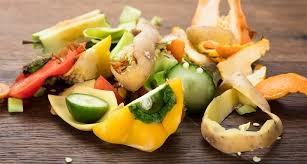kitchen_waste: (93, 77, 191, 156), (199, 87, 286, 152), (19, 10, 122, 53), (184, 1, 263, 56), (6, 47, 81, 98), (109, 30, 154, 90), (169, 58, 219, 110), (66, 34, 124, 78), (255, 71, 307, 100), (63, 92, 112, 120), (7, 95, 29, 114)
